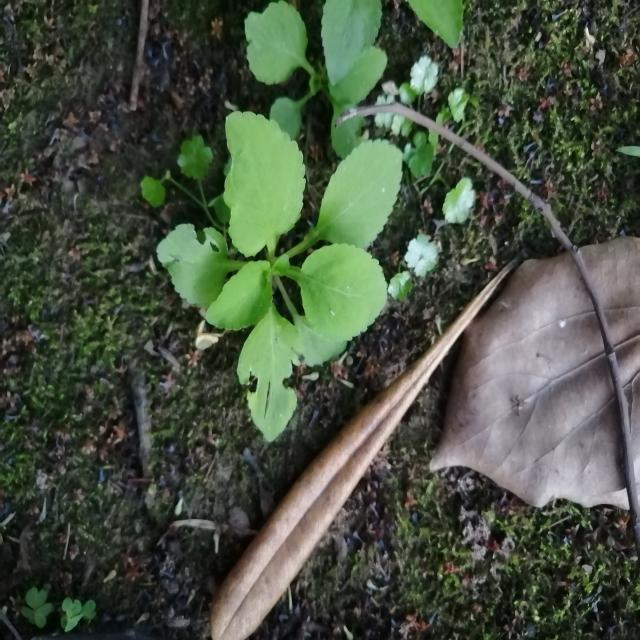Viola: (190, 97, 407, 415)
